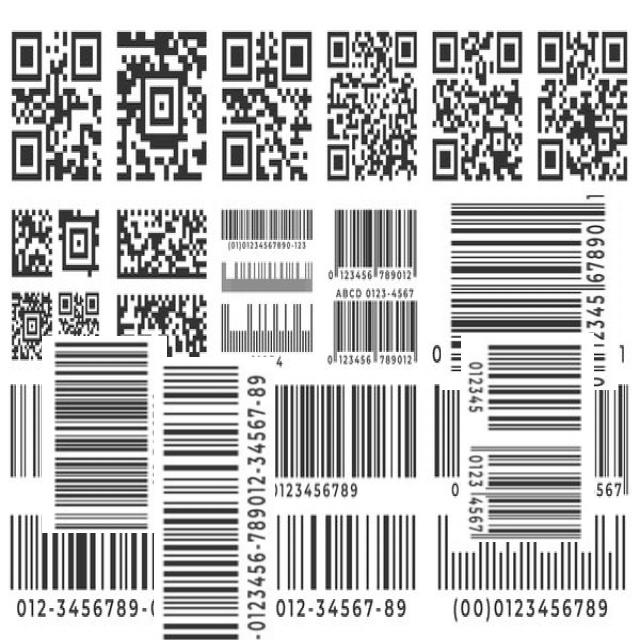Barkod: (79, 431, 349, 640), (434, 194, 626, 384), (442, 352, 613, 523), (209, 372, 419, 503), (24, 354, 185, 515)
